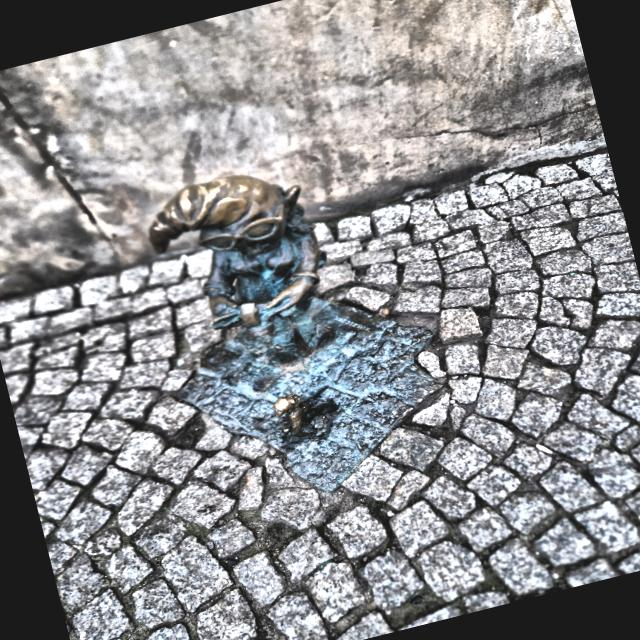Troszka i Adoratorek: (150, 176, 441, 490)
